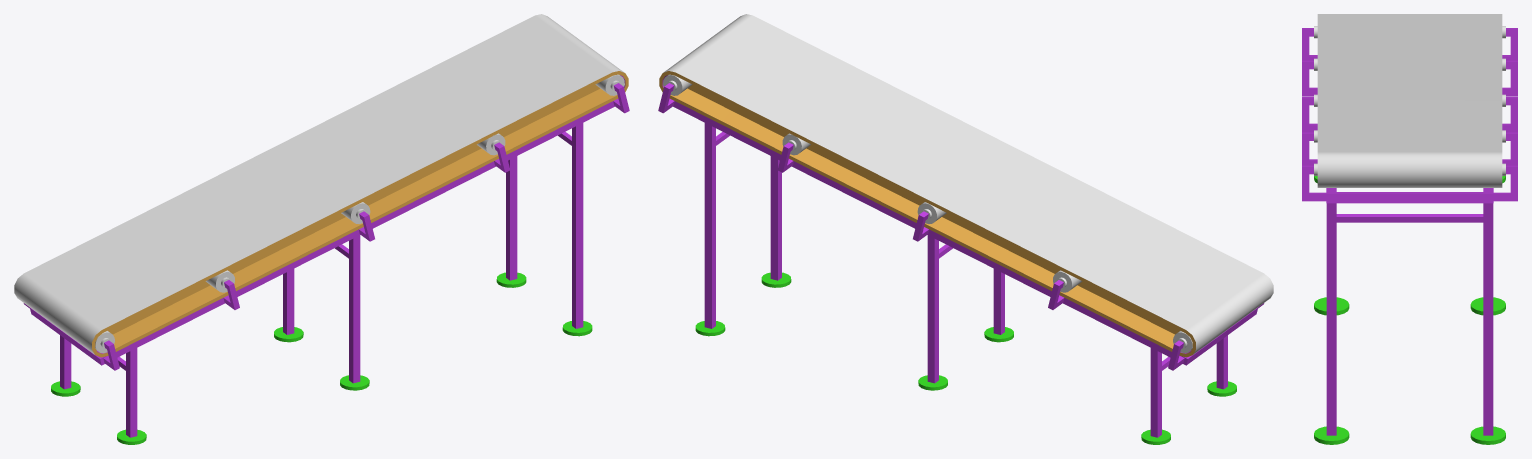
The model's file is mesh_angledConveyorBelt_long.fbx.
3 renders of one model, left to right at view 1: azimuth 30°, elevation 25°; view 2: azimuth 150°, elevation 25°; view 3: azimuth 270°, elevation 25°, orthographic. The views are drawn at different scales.
Visible parts, largest first — view 1: mesh_conveyorBelt04; view 2: mesh_conveyorBelt04; view 3: mesh_conveyorBelt04.
Boxes of the visible parts, x1,y1,x2,y2 form: mesh_conveyorBelt04: (14,14,629,444); mesh_conveyorBelt04: (658,14,1273,444); mesh_conveyorBelt04: (1302,14,1517,444).
Size of the model in its own units: 399 by 181 by 117.
